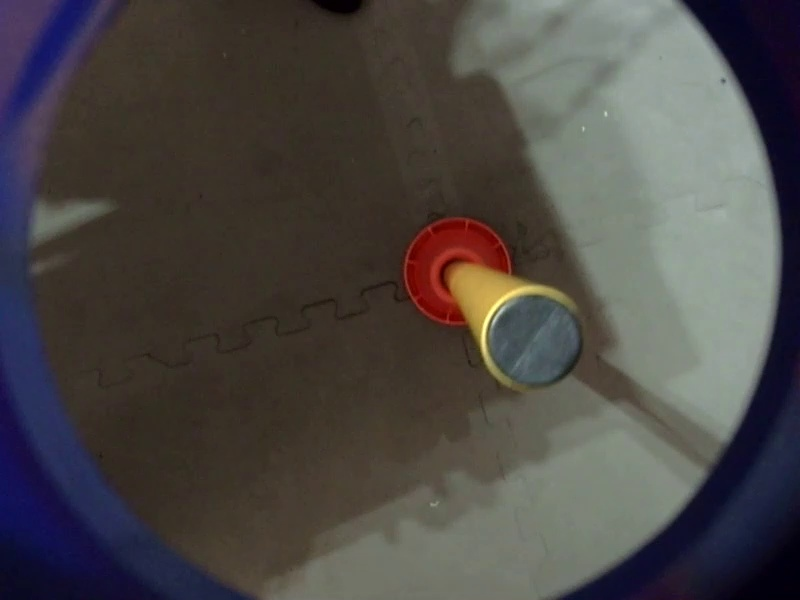tip: (472, 278, 590, 396)
